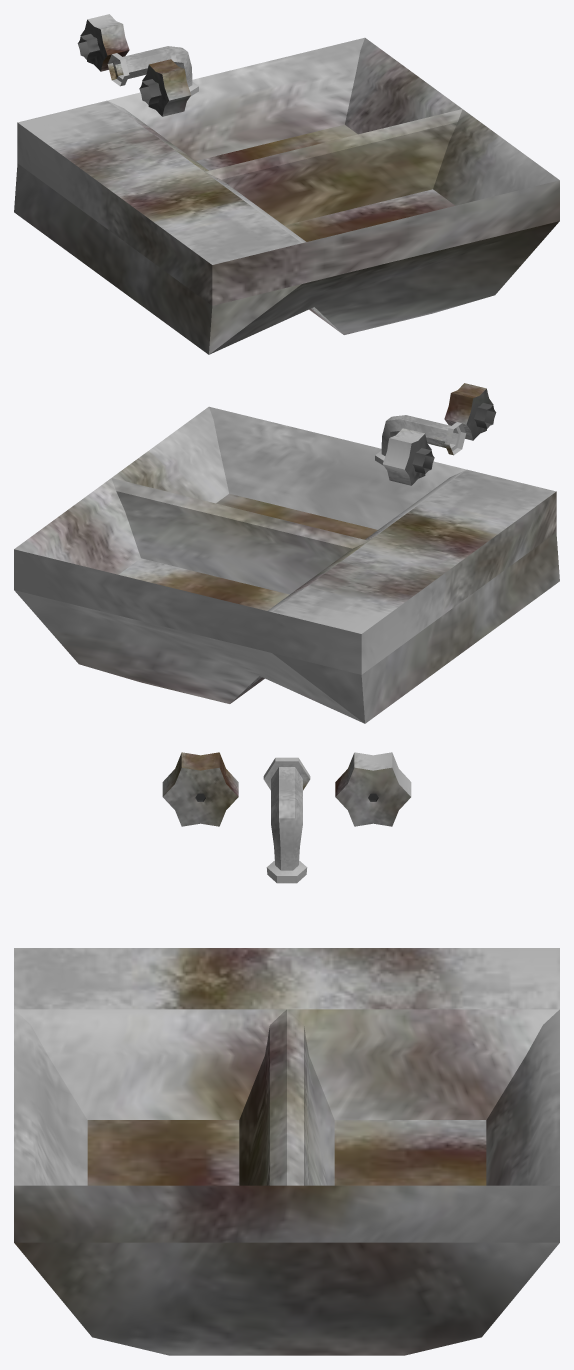
Rendered from pan-frying.glb.
The picture shows the model from 3 angles, top to bottom: view 1: azimuth 30°, elevation 25°; view 2: azimuth 150°, elevation 25°; view 3: azimuth 270°, elevation 25°; orthographic projection. The views are drawn at different scales.
Parts seen in each view (by area): view 1: pan-frying; view 2: pan-frying; view 3: pan-frying.
Boxes of the visible parts, x1,y1,x2,y2 form: pan-frying: [14, 14, 559, 354]; pan-frying: [14, 383, 559, 723]; pan-frying: [14, 752, 559, 1355].
Bounding box in the file's own units: 0.45 × 0.3685 × 0.4326.
Materials: 1 (1 with a texture image).
